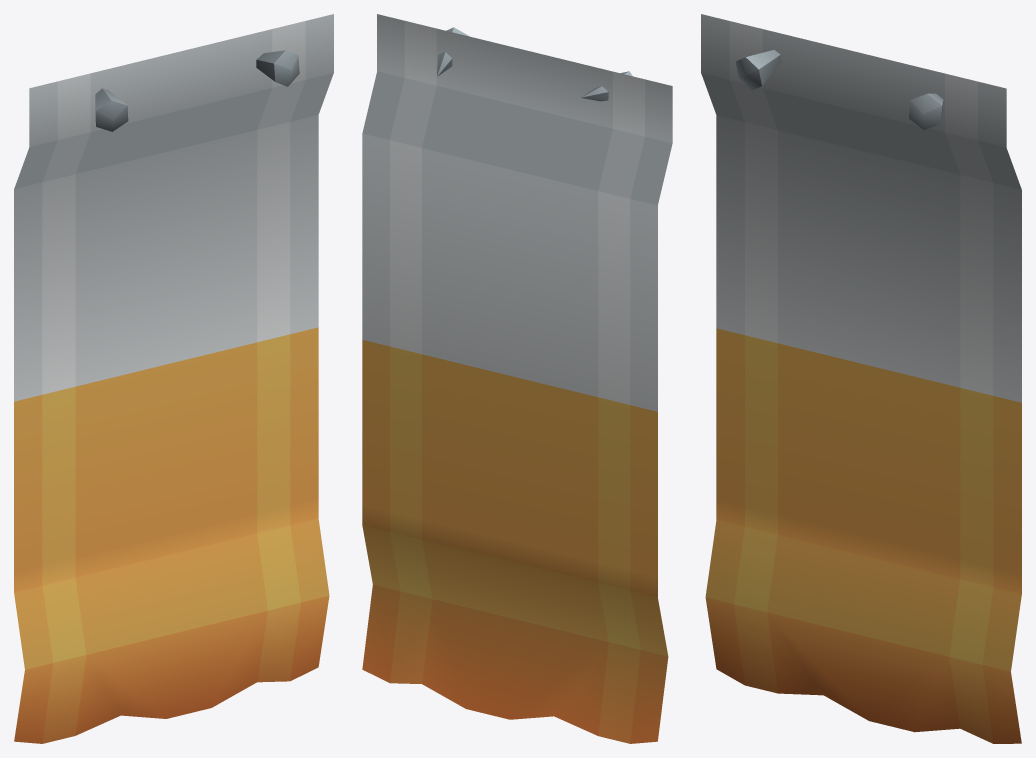
The model's file is banner_patternB_yellow.gltf.
The picture shows the model from 3 angles, left to right: view 1: azimuth 30°, elevation 25°; view 2: azimuth 150°, elevation 25°; view 3: azimuth 330°, elevation 25°; orthographic projection. The views are drawn at different scales.
Visible parts, largest first — view 1: banner_patternB_yellow; view 2: banner_patternB_yellow; view 3: banner_patternB_yellow.
Boxes of the visible parts, x1,y1,x2,y2 form: banner_patternB_yellow: [14, 14, 333, 743]; banner_patternB_yellow: [362, 14, 672, 743]; banner_patternB_yellow: [701, 14, 1021, 743].
Size of the model in its own units: 1.5 by 3.2 by 0.3119.
1 material, 1 textured.
